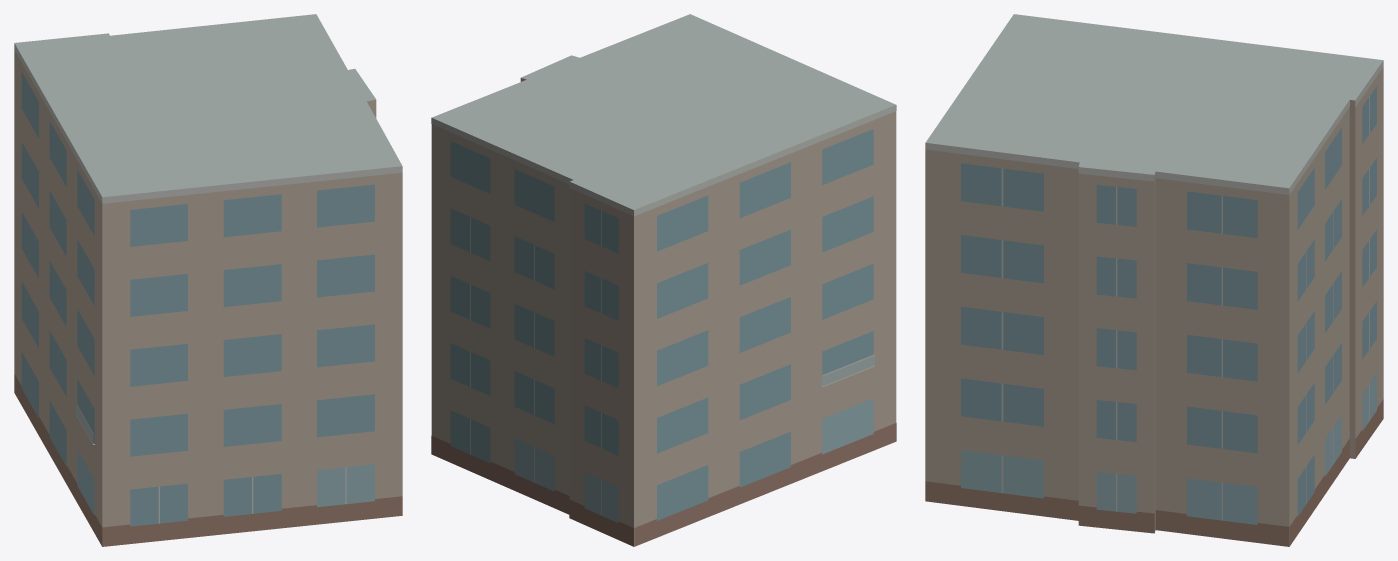
Rendered from survey-upis-32880556.glb.
3 views of the same model, side by side, from view 1: azimuth 30°, elevation 25°; view 2: azimuth 150°, elevation 25°; view 3: azimuth 270°, elevation 25° (orthographic). The views are drawn at different scales.
Parts seen in each view (by area): view 1: survey-upis-32880556.tmp; view 2: survey-upis-32880556.tmp; view 3: survey-upis-32880556.tmp.
Part boxes in pixels (x1,y1,x2,y2): survey-upis-32880556.tmp: (14, 14, 402, 546); survey-upis-32880556.tmp: (431, 14, 896, 546); survey-upis-32880556.tmp: (925, 14, 1383, 546).
Size of the model in its own units: 13.67 by 13.1 by 15.18.
